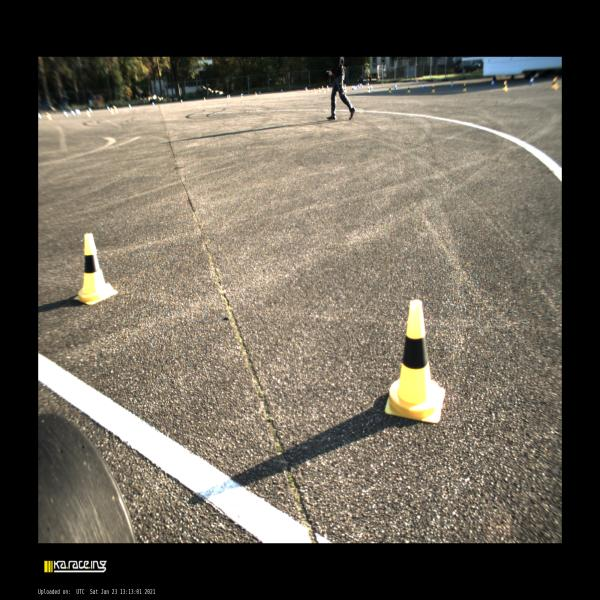blue_cone: (530, 77, 534, 85), (450, 81, 454, 88), (128, 103, 132, 109), (394, 83, 397, 90), (491, 80, 494, 86), (370, 84, 373, 90), (422, 82, 424, 89), (353, 85, 355, 90), (180, 99, 182, 104), (228, 94, 230, 99), (357, 84, 359, 88), (359, 83, 361, 87), (361, 82, 362, 88), (344, 84, 346, 87), (304, 87, 306, 90), (352, 85, 353, 90), (153, 102, 154, 107), (327, 85, 328, 89), (242, 93, 243, 96), (259, 91, 260, 94), (281, 89, 282, 92)
yellow_cone: (384, 298, 446, 424), (72, 232, 118, 306), (552, 77, 558, 90), (502, 80, 508, 92), (462, 83, 467, 93), (431, 85, 435, 93), (388, 86, 392, 93), (367, 86, 370, 94), (407, 86, 410, 92), (322, 88, 325, 94), (344, 87, 346, 93), (226, 94, 228, 100), (318, 87, 320, 92), (314, 88, 316, 93), (255, 92, 257, 96), (327, 86, 328, 91), (241, 93, 242, 98), (204, 97, 205, 102), (322, 86, 323, 90), (306, 87, 307, 91)
